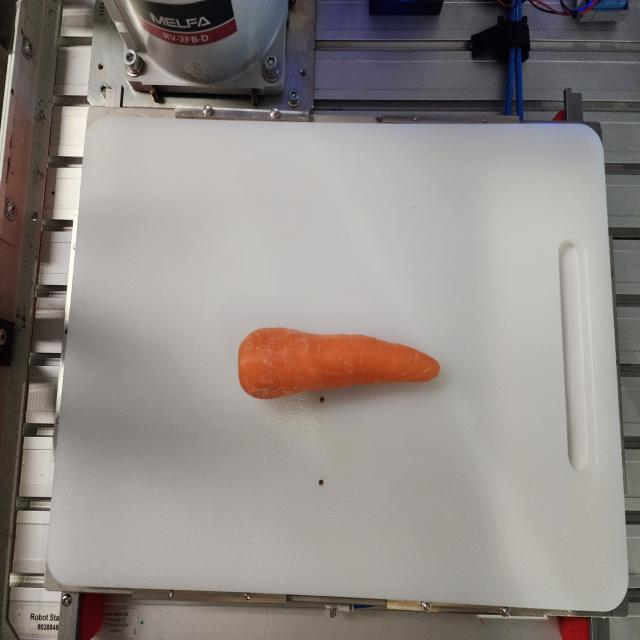carrot: (237, 326, 440, 400)
